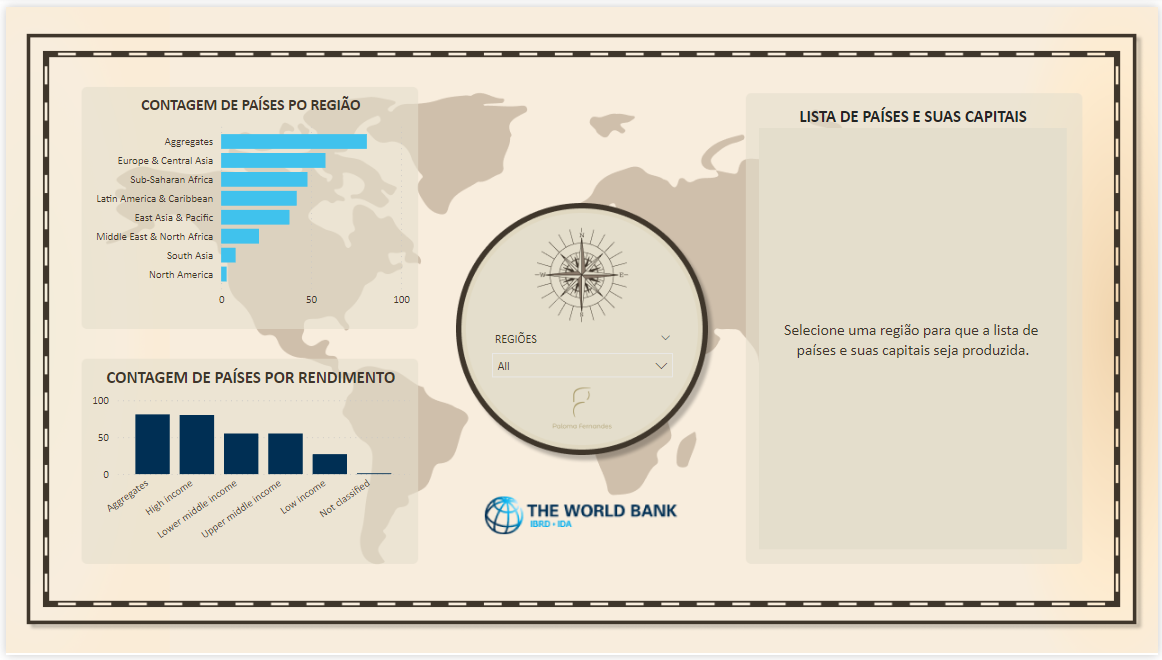

The dashboard page shown, as its layout file describes it:
{"tool":"powerbi","page":{"name":"Página 1","canvas":[1280,720],"ordinal":0},"visuals":[{"type":"barChart","title":"CONTAGEM DE PAÍSES PO REGIÃO","fields":{"Category":["Region.region_name"],"Y":["CountNonNull(Country.name)"]},"box":[89.5,98.2,363.8,243.2],"z":0},{"type":"columnChart","title":"CONTAGEM DE PAÍSES POR RENDIMENTO","fields":{"Category":["IncomeLevel.level_name"],"Y":["CountNonNull(Country.name)"]},"box":[89.5,399.8,363.8,212],"z":1000},{"type":"tableEx","title":"LISTA DE PAÍSES E SUAS CAPITAIS","fields":{"Values":["Country.name","Country.capitalCity"]},"box":[836.5,109.9,342.4,492.2],"z":2000},{"type":"slicer","fields":{"Values":["Region.region_name"]},"box":[530.1,356,220.8,58.4],"z":3000},{"type":"card","fields":{"Values":["_Medidas.Message"]},"box":[836.5,134.2,342.4,467.8],"z":3002}]}

Visuals, with their boxes in screenshot pixels (x1, y1, x2, y2), scaled from the page's 1280x720 canvas onto the 1162x660 screenshot:
"CONTAGEM DE PAÍSES PO REGIÃO" barChart: [left=81, top=90, right=412, bottom=313]
"CONTAGEM DE PAÍSES POR RENDIMENTO" columnChart: [left=81, top=366, right=412, bottom=561]
"LISTA DE PAÍSES E SUAS CAPITAIS" tableEx: [left=759, top=101, right=1070, bottom=552]
slicer - Region.region_name: [left=481, top=326, right=682, bottom=380]
card - _Medidas.Message: [left=759, top=123, right=1070, bottom=552]
